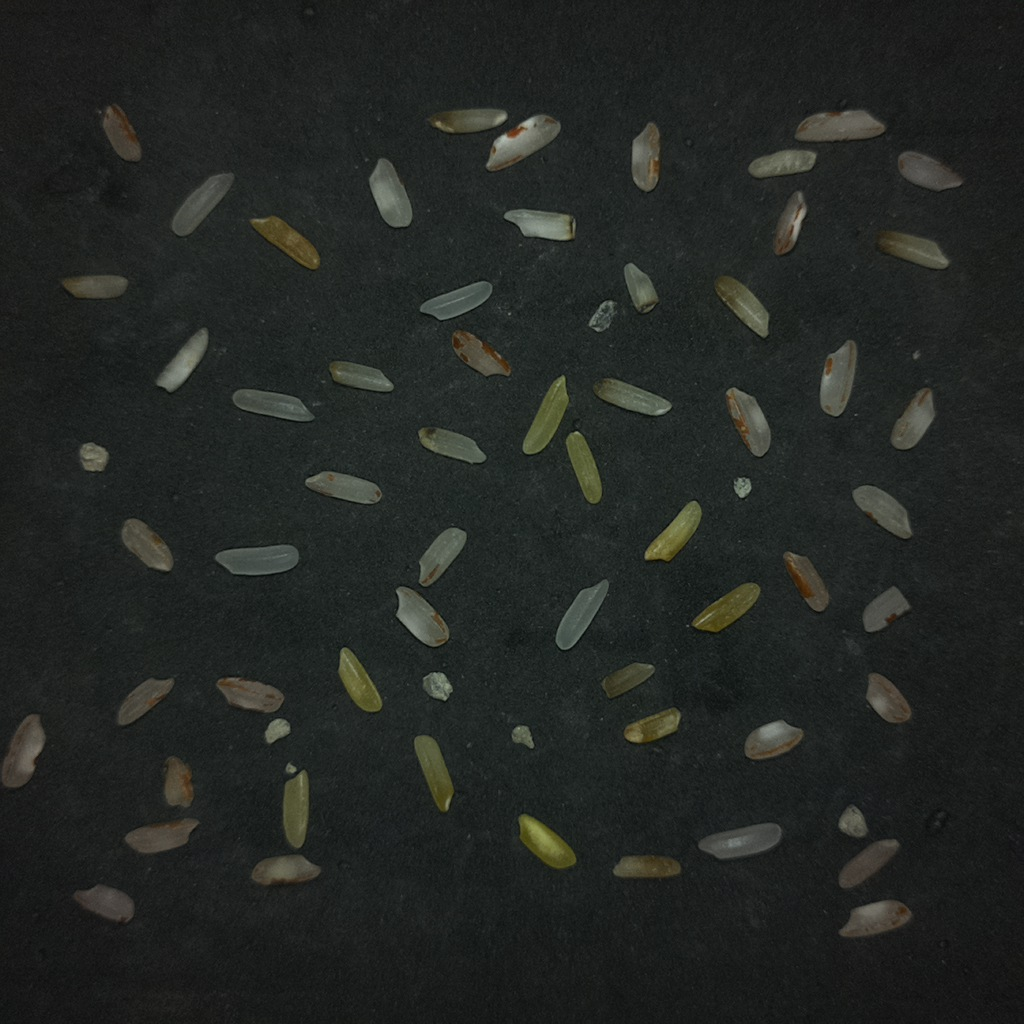broken: (852, 485, 911, 538), (251, 854, 319, 885), (624, 263, 658, 313)
chalky: (155, 328, 209, 393)
damaged: (250, 217, 319, 269), (0, 714, 45, 788), (716, 275, 769, 337), (594, 378, 671, 416), (876, 231, 949, 269), (418, 427, 485, 463), (503, 209, 575, 240), (774, 191, 807, 254), (624, 707, 680, 744), (427, 108, 507, 133), (329, 361, 393, 392), (748, 149, 815, 178), (601, 663, 654, 697), (60, 275, 127, 298), (613, 855, 680, 878)
discolored: (522, 375, 569, 455), (644, 500, 701, 561), (691, 582, 760, 632), (518, 814, 576, 868), (414, 735, 453, 812), (339, 648, 381, 711), (566, 431, 602, 503), (282, 770, 310, 849)
foreign: (837, 804, 867, 837), (78, 442, 109, 472), (588, 300, 616, 330), (423, 672, 452, 700), (265, 718, 289, 742), (512, 725, 532, 746), (734, 477, 751, 499)
red: (486, 114, 560, 170), (395, 586, 448, 646), (726, 387, 770, 457), (819, 340, 858, 417), (795, 109, 885, 142), (419, 527, 467, 586), (890, 387, 935, 449), (124, 818, 199, 855), (838, 899, 911, 937), (121, 518, 173, 571), (117, 678, 174, 726), (783, 552, 829, 611), (897, 151, 963, 191), (452, 331, 510, 376), (305, 471, 381, 504), (73, 884, 133, 923), (217, 677, 283, 712), (744, 720, 803, 759), (866, 673, 911, 723), (102, 104, 141, 161), (862, 587, 910, 631), (631, 122, 660, 191), (163, 756, 193, 807)
whole: (171, 173, 233, 236), (555, 579, 609, 651), (838, 839, 900, 888), (698, 823, 782, 859), (369, 158, 412, 227), (419, 281, 493, 321), (233, 389, 312, 420), (215, 544, 297, 573)
